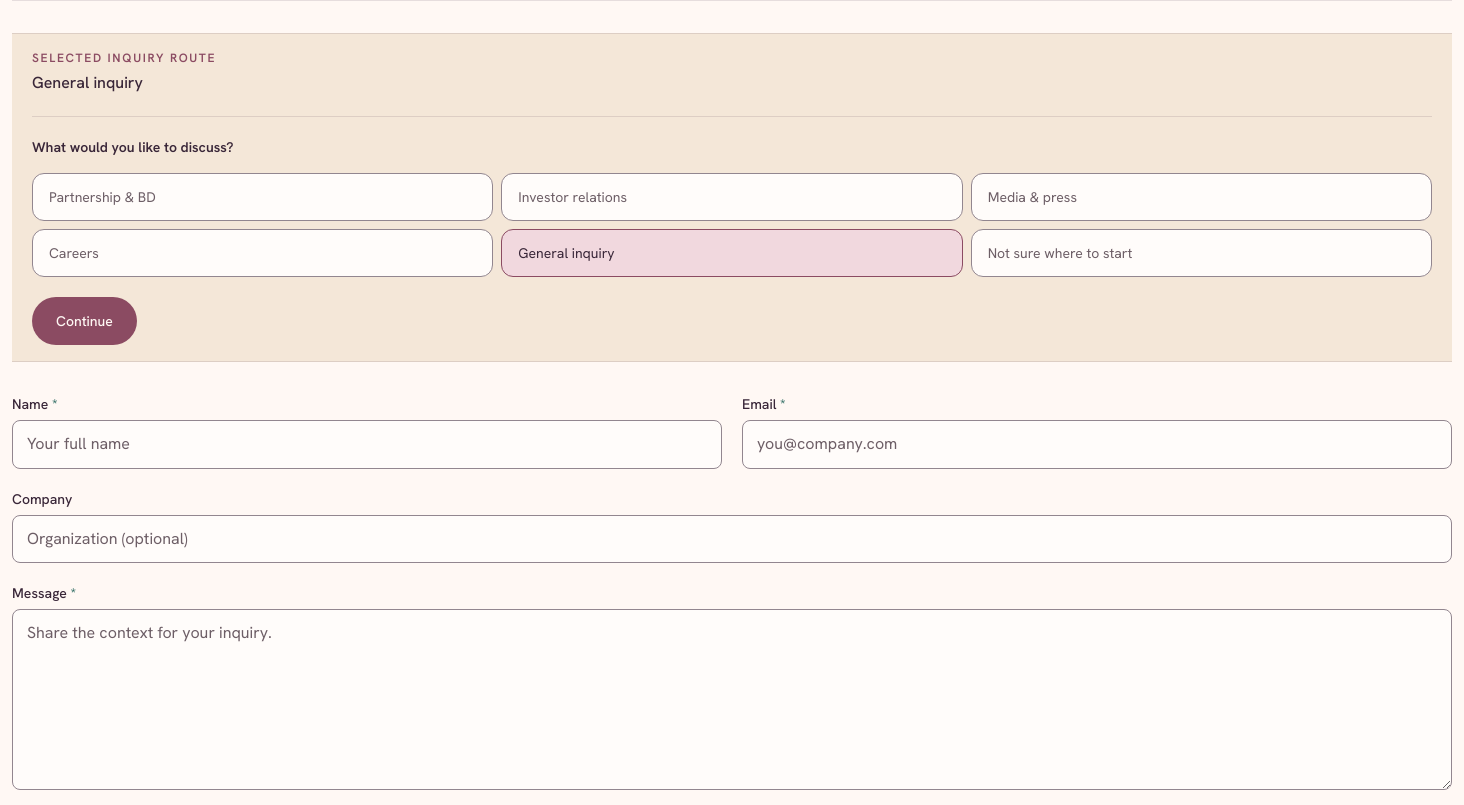
it: ContactForm subject chooser › keeps the chooser open while arrow keys move through its radios
Click the radio button labelled "Partnership & BD" at {"x": 263, "y": 197}, box [32,173,493,221]
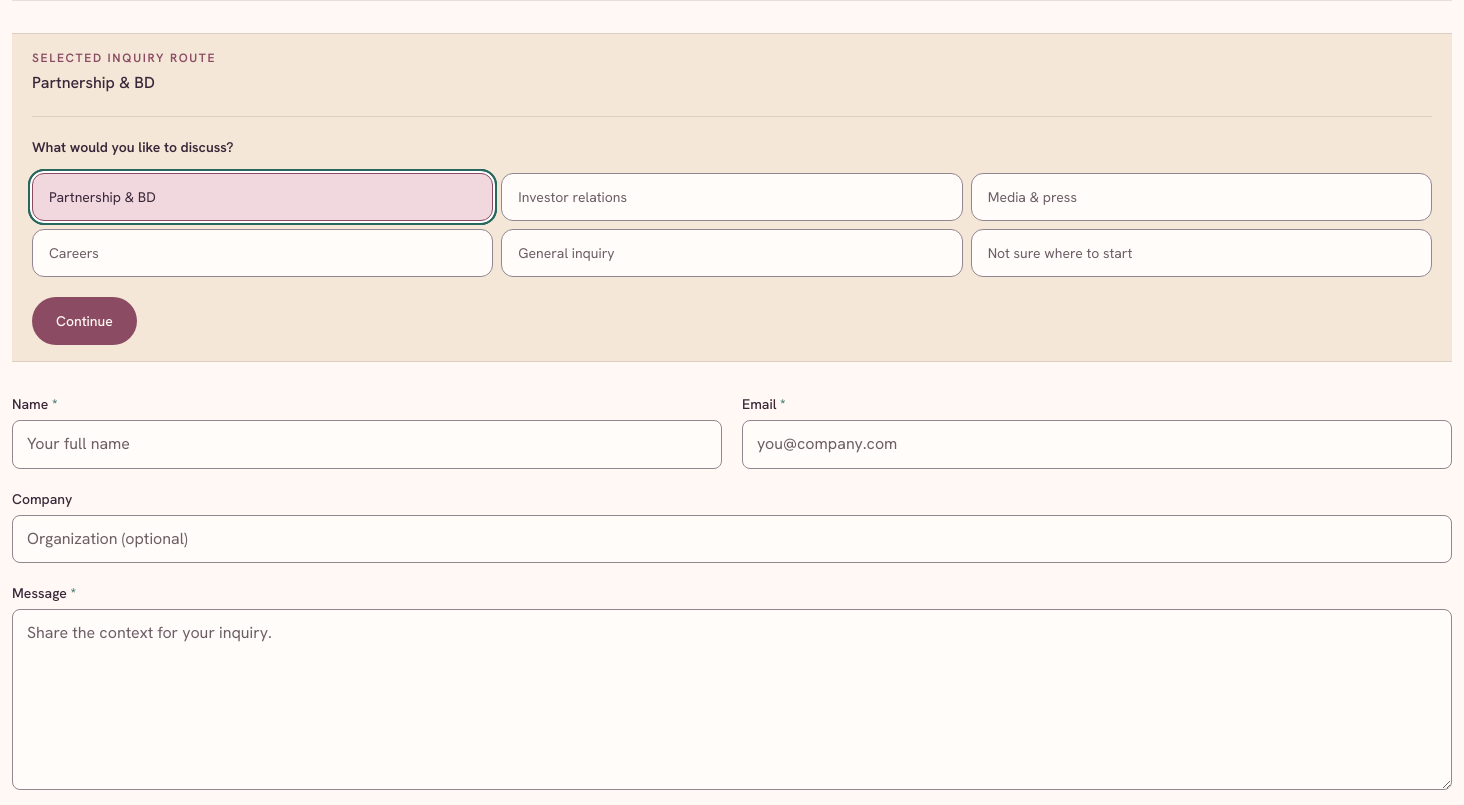
Press Arrowright
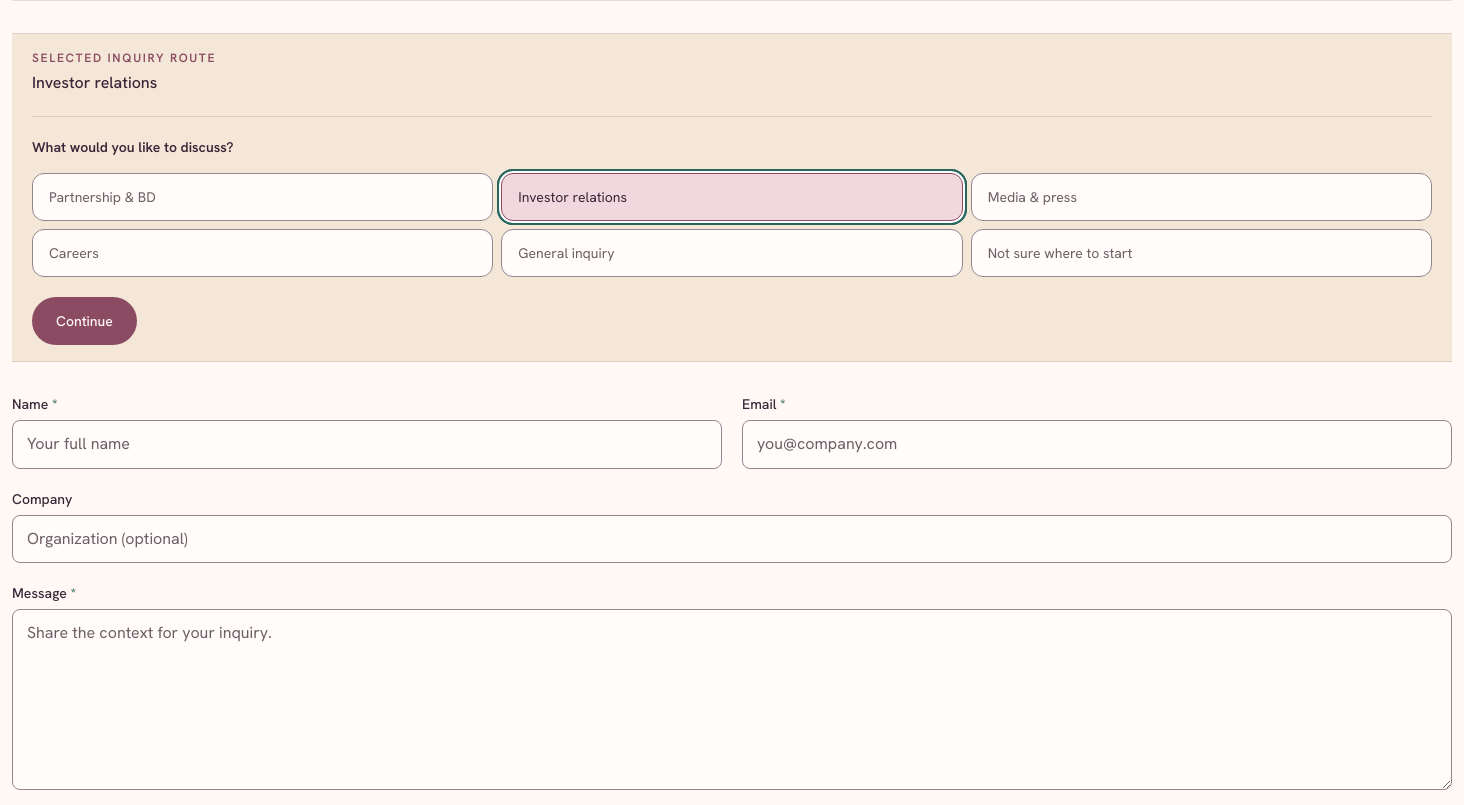
Expected: the element with id "contact-subject-options" is shown, [32,116,1432,277]
Result: the radio button labelled "Investor relations" is checked at [501,173,963,221]
